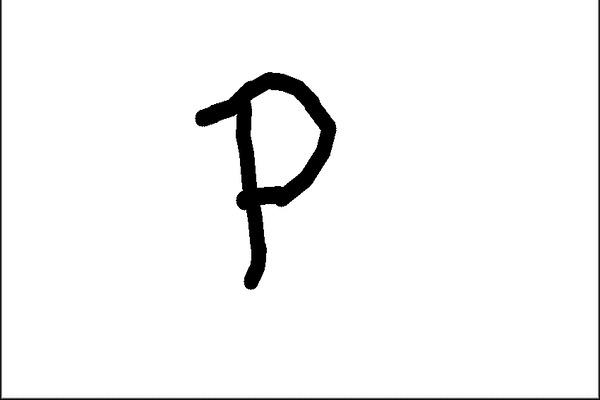P: (169, 61, 352, 306)
